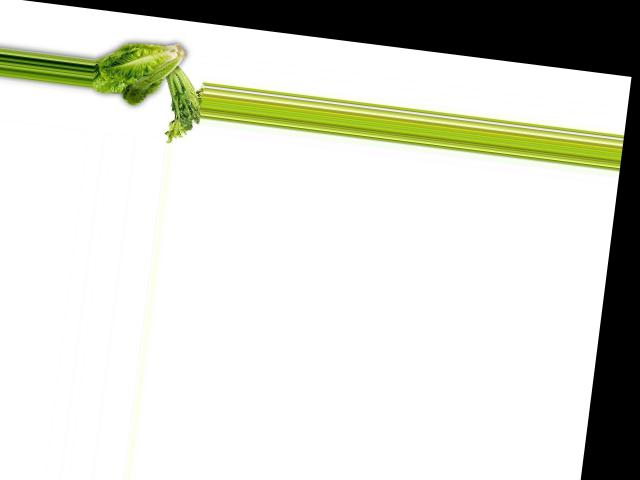lettuce: (88, 37, 191, 118)
